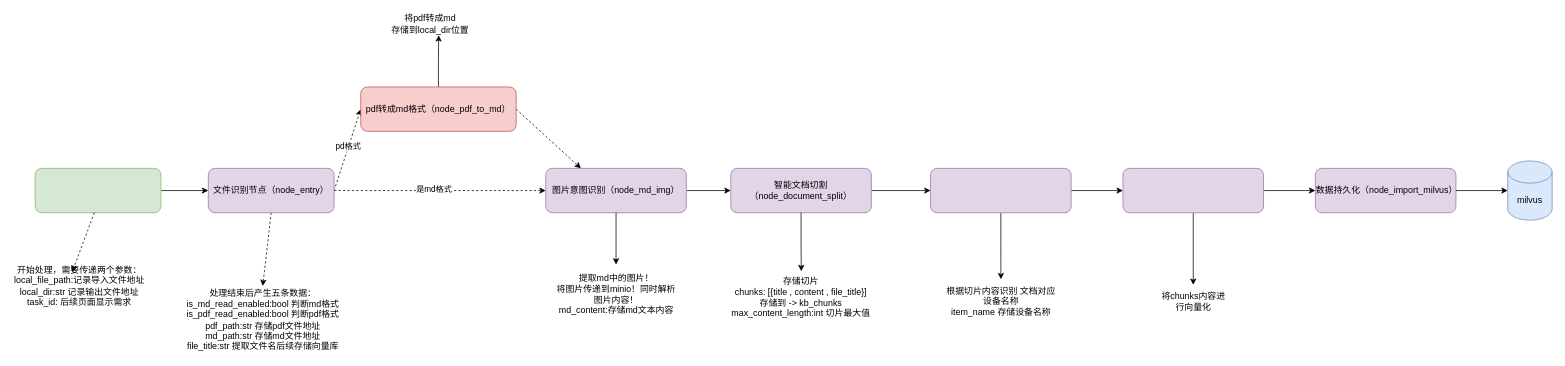
Image size: 1565x366. Some labels were removed from this diagram. The shapes that lost their labels are listed below. From the top down, each one's box as (x1, y1, x2, y2) in pixels, then its label:
(34, 168, 161, 213): 数据准备业务（提问前）
(930, 168, 1071, 213): 主体识别与标签提取（node_item_name_recognition）
(1122, 168, 1264, 213): 混合向量化（node_bge_embedding）
